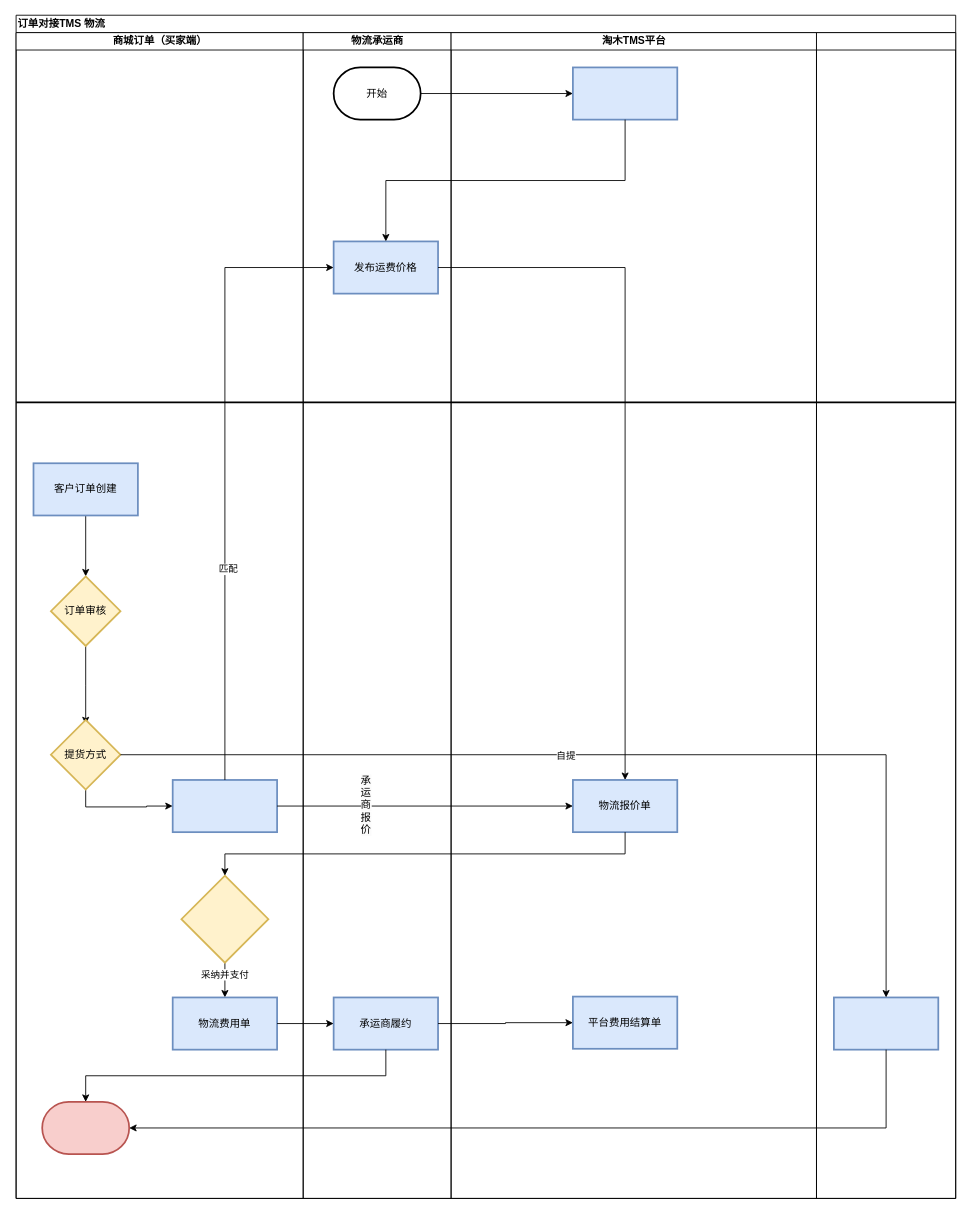
The diagram is 971 pixels wide and 1214 high, and some of its shapes have lost their labels. The box of each missing label's shape, as (x1, y1, x2, y2) in pixels:
卖家放货: (833, 996, 939, 1050)
商城订单(商家端）: (816, 32, 956, 1198)
委托找车: (171, 779, 278, 833)
承运商入驻/审核: (572, 66, 678, 120)
是否采纳报价: (180, 874, 269, 963)
结束: (41, 1101, 130, 1154)
